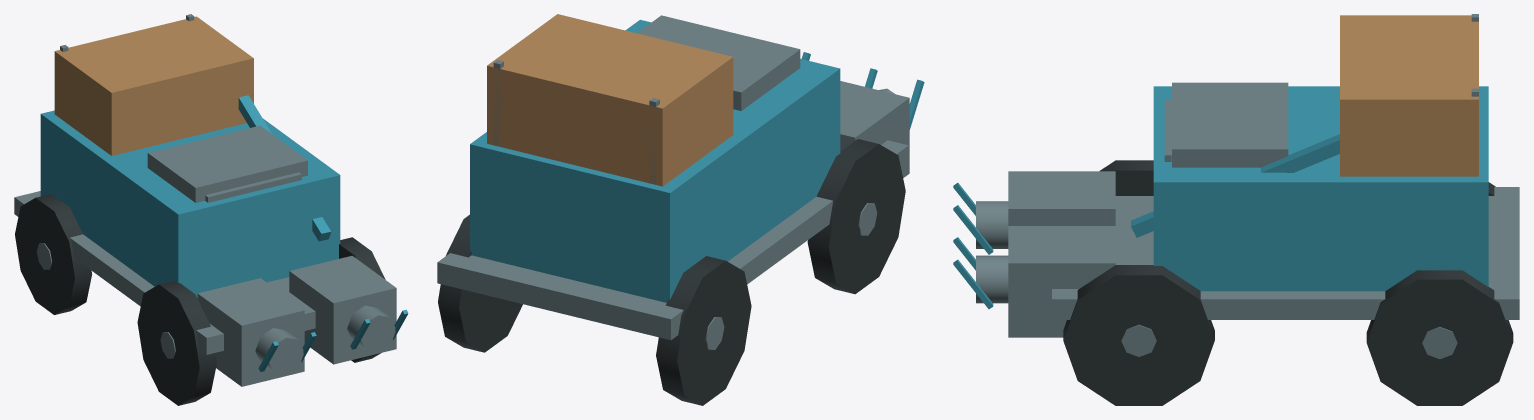
The model's file is cotton-picker.source.glb.
3 views of the same model, side by side, from view 1: azimuth 30°, elevation 25°; view 2: azimuth 150°, elevation 25°; view 3: azimuth 270°, elevation 25° (orthographic). The views are drawn at different scales.
Parts seen in each view (by area): view 1: cotton-picker-tall-row-crop-body-mesh, cotton-picker-rear-lint-basket-mesh, cotton-picker-tire-mesh (×3), cotton-picker-cab-shell-mesh, cotton-picker-right-picking-head-mesh, cotton-picker-left-picking-head-mesh, cotton-picker-high-clearance-frame-mesh, cotton-picker-right-spindle-drum-mesh, cotton-picker-left-spindle-drum-mesh, cotton-picker-cleaning-duct-mesh, cotton-picker-windshield-mesh; view 2: cotton-picker-tall-row-crop-body-mesh, cotton-picker-rear-lint-basket-mesh, cotton-picker-tire-mesh (×3), cotton-picker-high-clearance-frame-mesh, cotton-picker-cab-shell-mesh, cotton-picker-left-picking-head-mesh, cotton-picker-hub-mesh (×2); view 3: cotton-picker-tall-row-crop-body-mesh, cotton-picker-tire-mesh (×3), cotton-picker-rear-lint-basket-mesh, cotton-picker-high-clearance-frame-mesh, cotton-picker-cab-shell-mesh, cotton-picker-right-picking-head-mesh, cotton-picker-left-picking-head-mesh, cotton-picker-cleaning-duct-mesh, cotton-picker-hub-mesh (×2), cotton-picker-right-spindle-drum-mesh, cotton-picker-left-spindle-drum-mesh, cotton-picker-windshield-mesh.
Boxes of the visible parts, box(x1,y1,x2,y2) form: cotton-picker-tall-row-crop-body-mesh: box(40, 110, 340, 298); cotton-picker-rear-lint-basket-mesh: box(54, 16, 253, 155); cotton-picker-tire-mesh (×3): box(15, 194, 385, 405); cotton-picker-cab-shell-mesh: box(147, 125, 307, 202); cotton-picker-right-picking-head-mesh: box(289, 255, 396, 364); cotton-picker-left-picking-head-mesh: box(197, 278, 304, 386); cotton-picker-high-clearance-frame-mesh: box(14, 191, 315, 354); cotton-picker-right-spindle-drum-mesh: box(347, 305, 395, 352); cotton-picker-left-spindle-drum-mesh: box(255, 328, 303, 375); cotton-picker-cleaning-duct-mesh: box(238, 95, 331, 241); cotton-picker-windshield-mesh: box(205, 172, 301, 202); cotton-picker-tall-row-crop-body-mesh: box(470, 19, 840, 302); cotton-picker-rear-lint-basket-mesh: box(487, 14, 733, 186); cotton-picker-tire-mesh (×3): box(438, 139, 905, 405); cotton-picker-high-clearance-frame-mesh: box(437, 140, 908, 340); cotton-picker-cab-shell-mesh: box(637, 15, 800, 110); cotton-picker-left-picking-head-mesh: box(840, 81, 909, 177); cotton-picker-hub-mesh (×2): box(705, 203, 877, 349); cotton-picker-tall-row-crop-body-mesh: box(1153, 86, 1488, 291); cotton-picker-tire-mesh (×3): box(1063, 160, 1513, 405); cotton-picker-rear-lint-basket-mesh: box(1340, 15, 1478, 176); cotton-picker-high-clearance-frame-mesh: box(1052, 187, 1519, 319); cotton-picker-cab-shell-mesh: box(1172, 82, 1288, 167); cotton-picker-right-picking-head-mesh: box(1008, 226, 1115, 337); cotton-picker-left-picking-head-mesh: box(1008, 171, 1115, 225); cotton-picker-cleaning-duct-mesh: box(1131, 134, 1339, 237); cotton-picker-hub-mesh (×2): box(1121, 324, 1457, 359); cotton-picker-right-spindle-drum-mesh: box(976, 255, 1008, 303); cotton-picker-left-spindle-drum-mesh: box(976, 201, 1008, 248); cotton-picker-windshield-mesh: box(1164, 99, 1171, 161).
Bounding box in the file's own units: 2.17 × 2.58 × 4.48.
